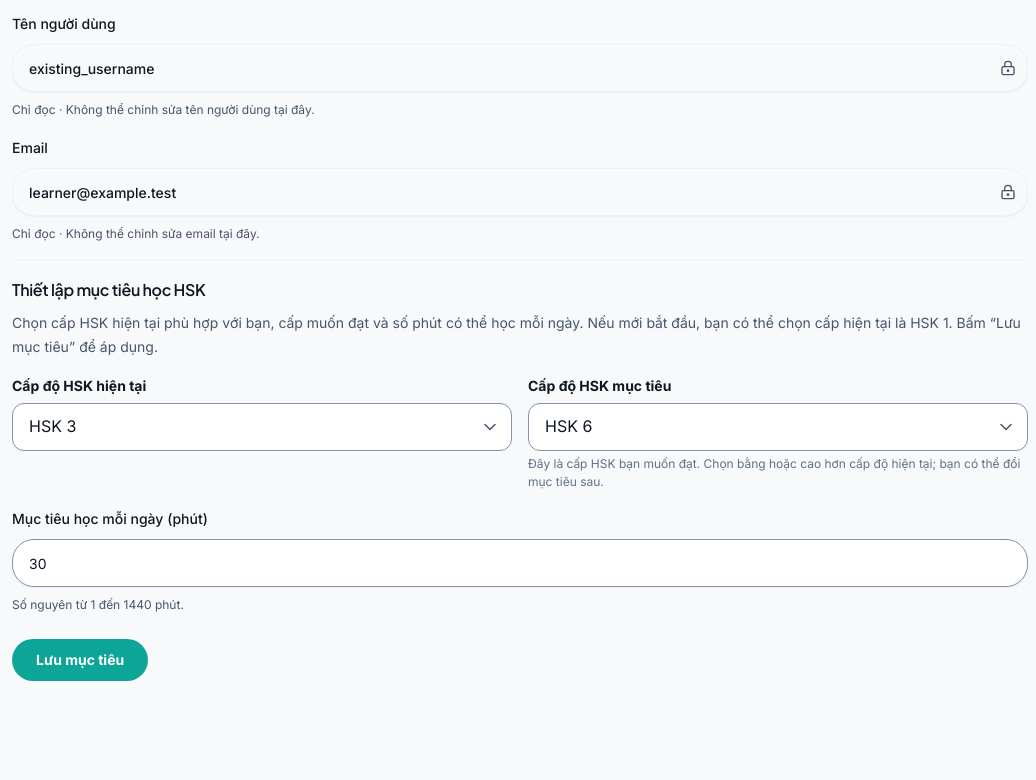
Test: keeps drafts and shows the target field error when the server rejects the save
Select "HSK 4" in the dropdown labelled "Cấp độ HSK mục tiêu" at (778, 427), box [528,403,1028,451]
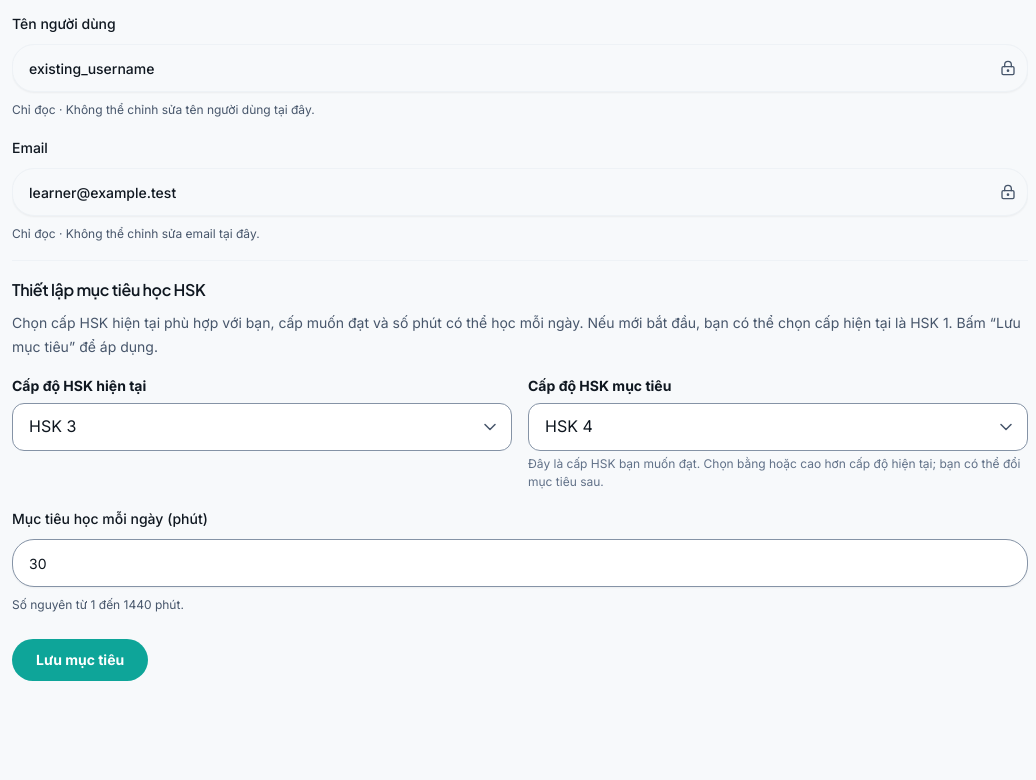
Replace the text in the number field labelled "Mục tiêu học mỗi ngày (phút)" with "45" at (520, 563), box [12,539,1028,587]
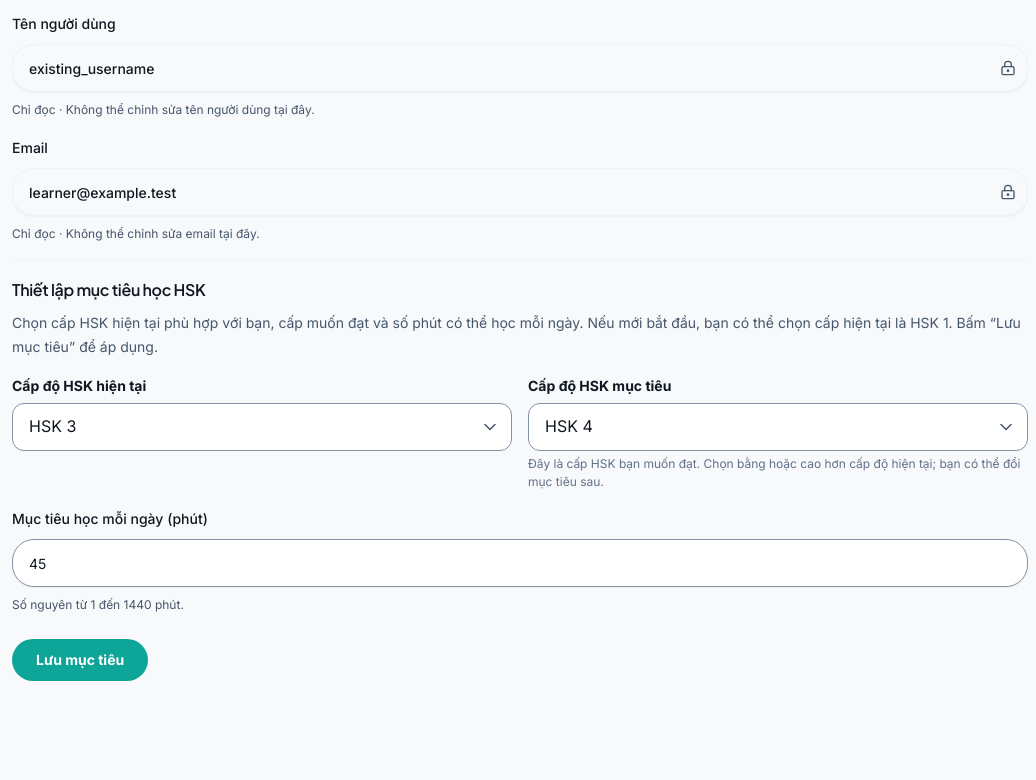
Submit the form named "Lưu mục tiêu"
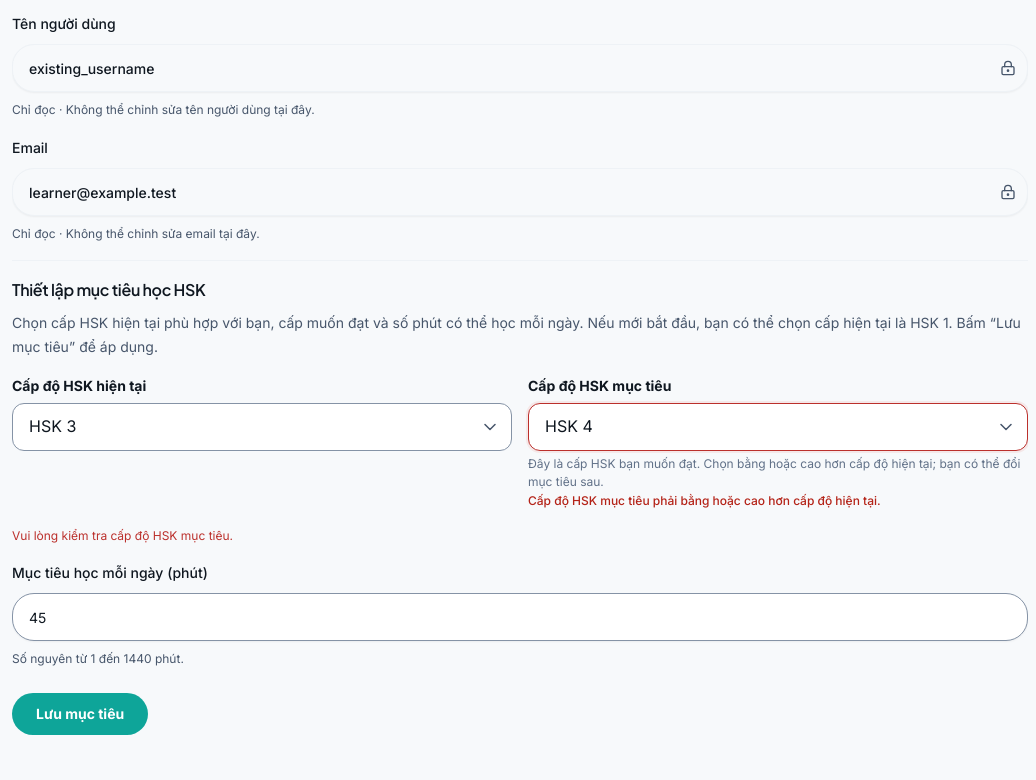
Now the text "Cấp độ HSK mục tiêu phải bằng hoặc cao hơn cấp độ hiện tại." is shown, box [528,493,881,508]
